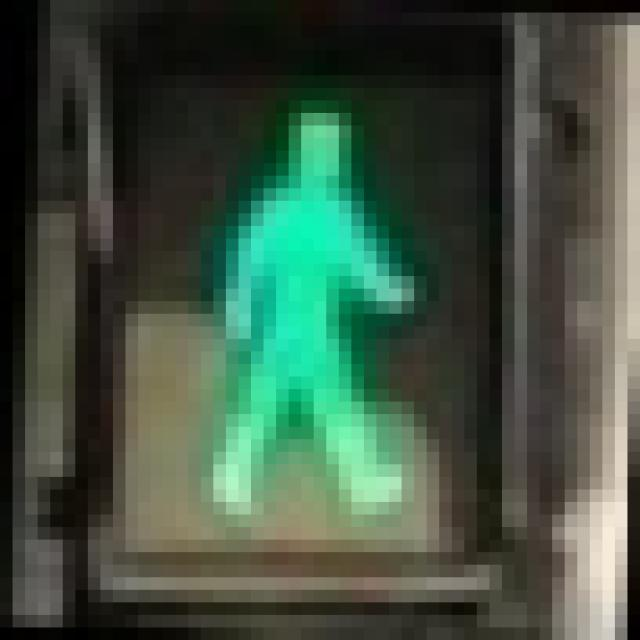green_light: (176, 76, 440, 514)
